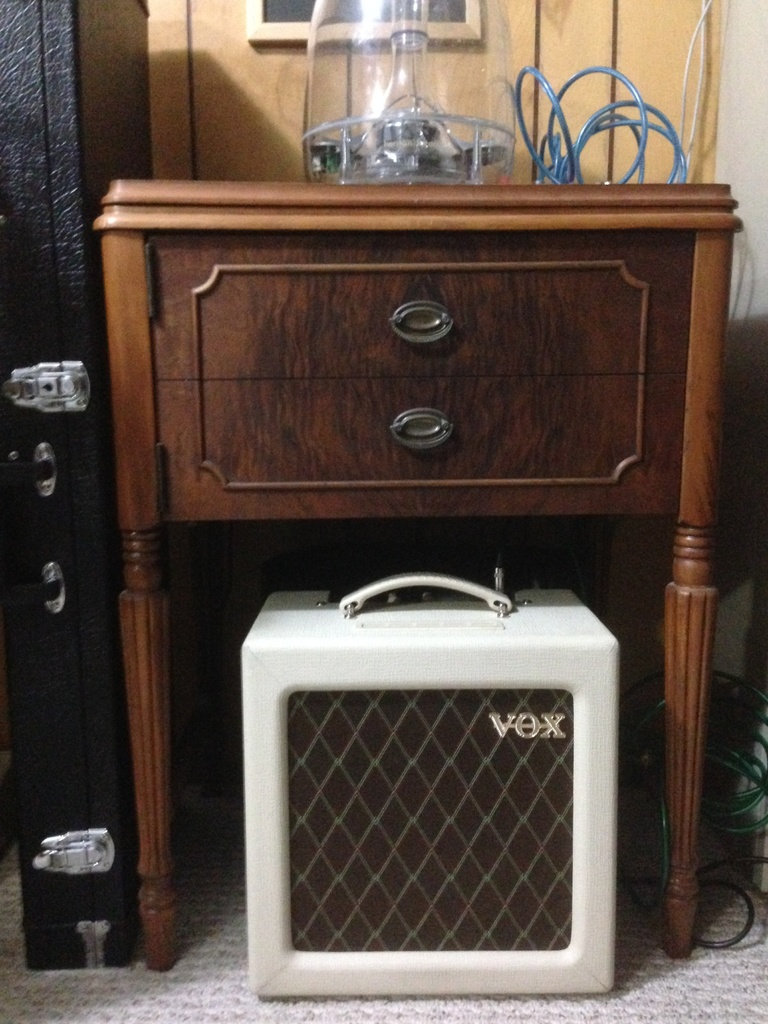cabinet door: (162, 377, 686, 525), (151, 242, 690, 373)
handle: (386, 404, 459, 454), (385, 296, 454, 348)
